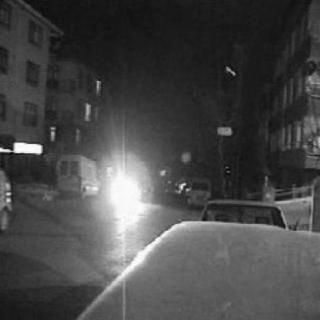other: (94, 170, 148, 218)
